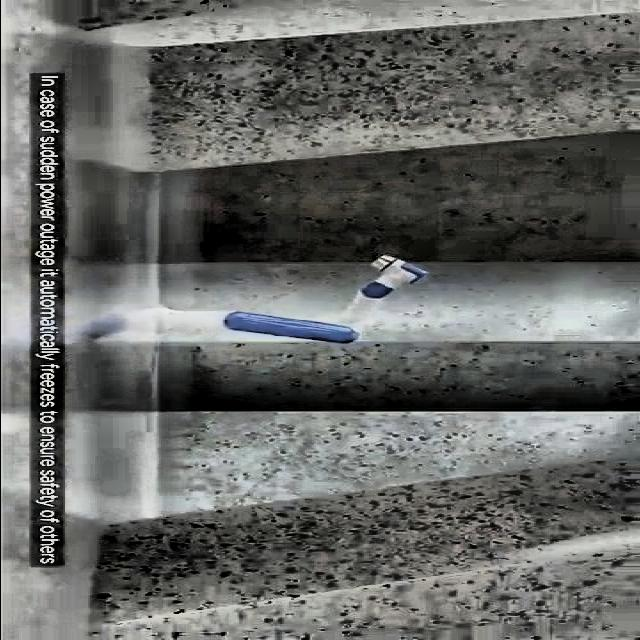robot: (151, 252, 430, 350)
